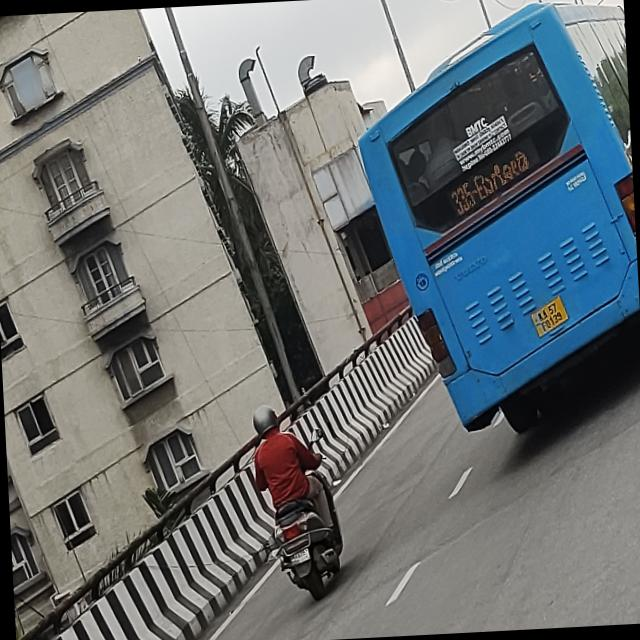bus: (348, 0, 640, 447)
display: (446, 150, 540, 218)
dnumber: (449, 182, 476, 216)
